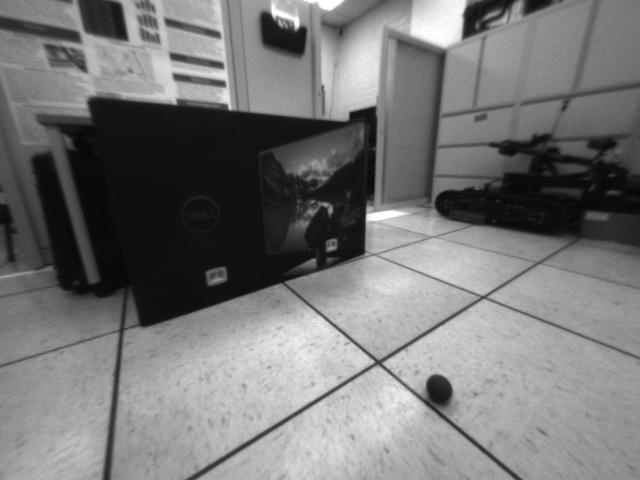dogtoy: (421, 366, 458, 412)
